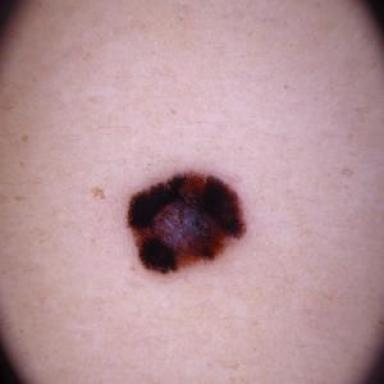Melanoma: (127, 173, 245, 273)
